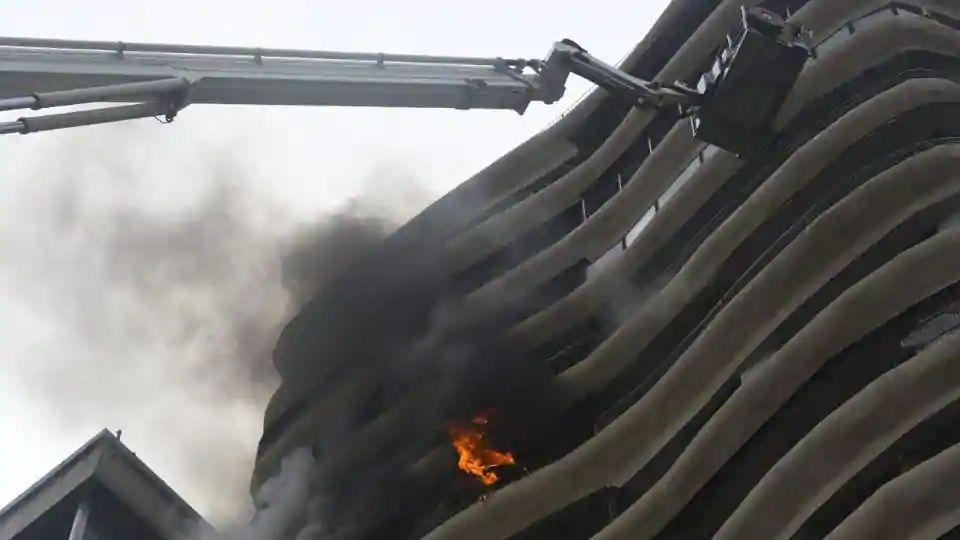Fire: (424, 406, 538, 493)
